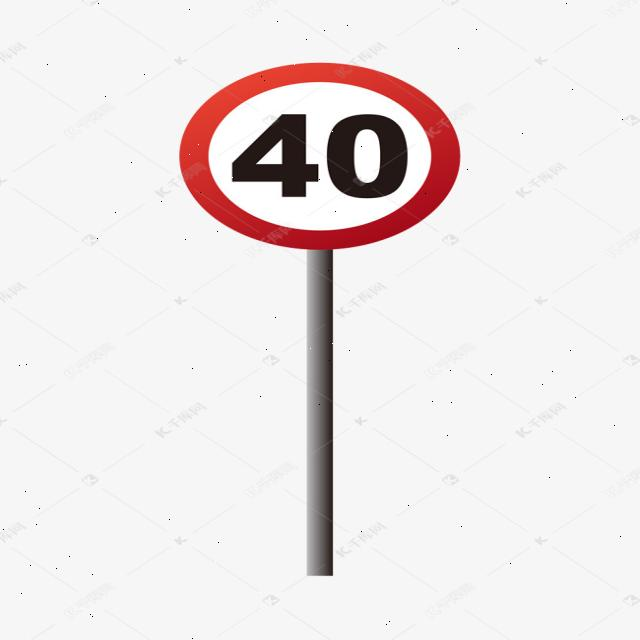speed limit 40: (176, 64, 458, 250)
